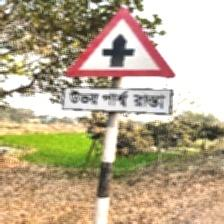Crossroad: (63, 5, 177, 118)
